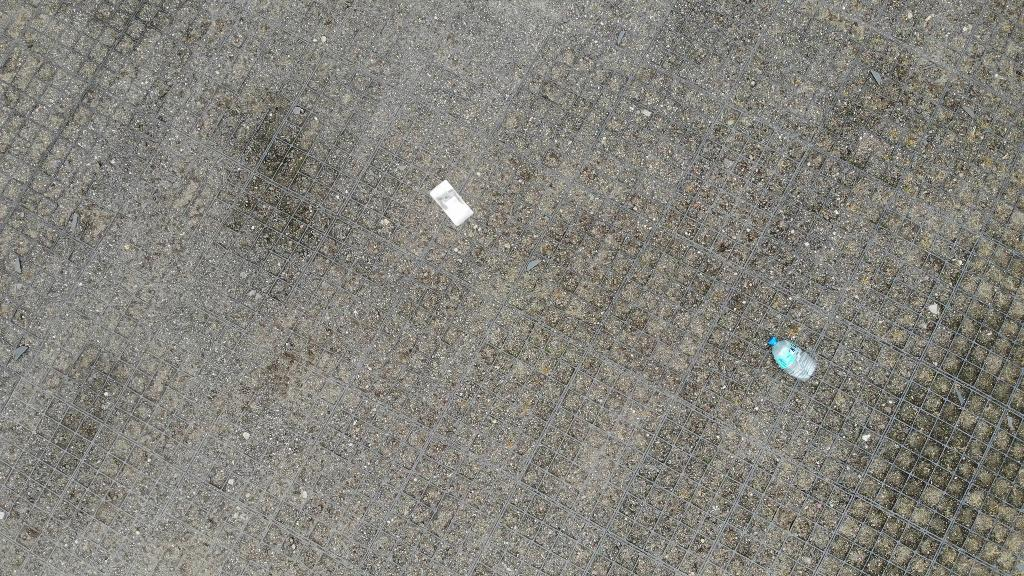garbage: (766, 330, 817, 382), (429, 180, 475, 229)
